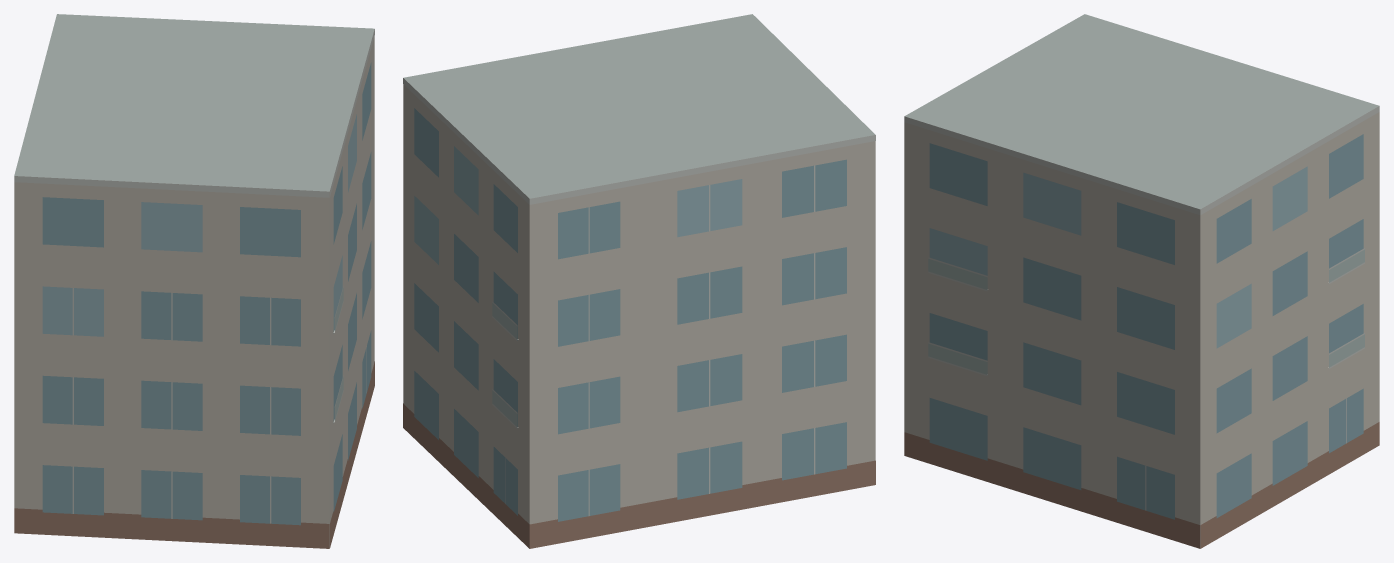
File: survey-upis-32798590.glb
3 renders of one model, left to right at view 1: azimuth 30°, elevation 25°; view 2: azimuth 150°, elevation 25°; view 3: azimuth 270°, elevation 25°, orthographic. The views are drawn at different scales.
Visible parts, largest first — view 1: survey-upis-32798590.tmp; view 2: survey-upis-32798590.tmp; view 3: survey-upis-32798590.tmp.
Boxes of the visible parts, <box> form: survey-upis-32798590.tmp: <box>14,14,374,548</box>; survey-upis-32798590.tmp: <box>403,14,875,548</box>; survey-upis-32798590.tmp: <box>904,14,1379,548</box>.
Size of the model in its own units: 17.29 by 14 by 17.78.
